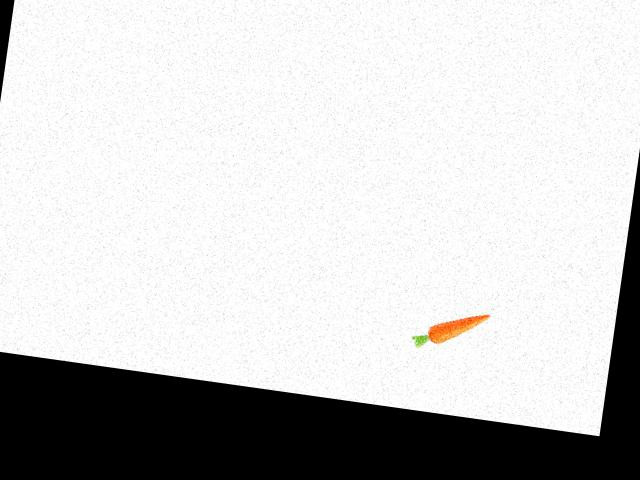carrot: (419, 301, 493, 350)
